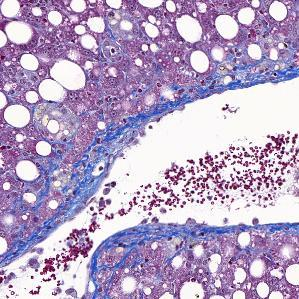fibrosis: (53, 125, 129, 198)
